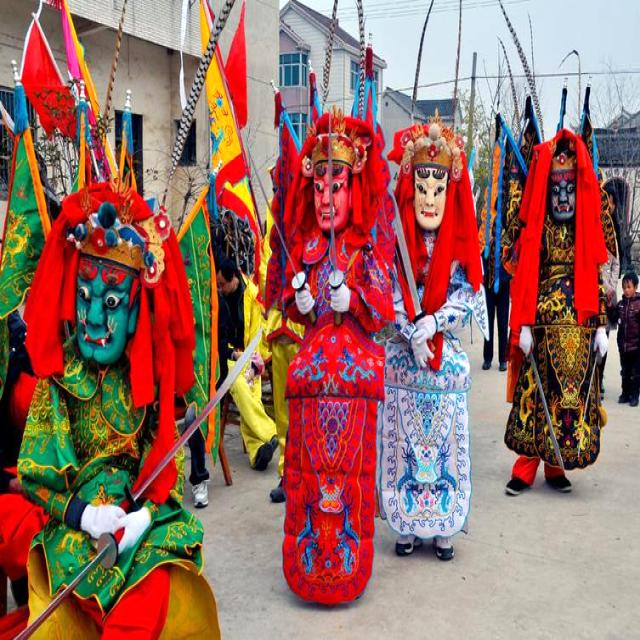Reeves-s Pheasant: (162, 0, 235, 198), (500, 0, 539, 111), (99, 0, 128, 136), (412, 0, 433, 106), (321, 0, 337, 100), (356, 0, 365, 79), (506, 60, 518, 100)
